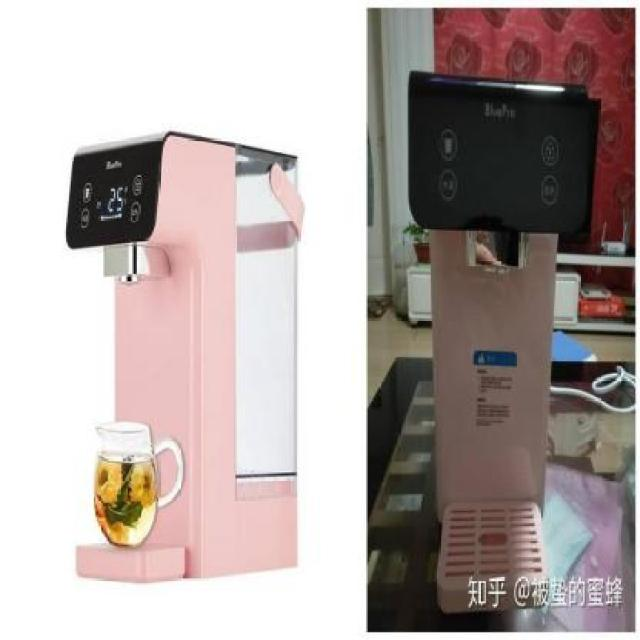cooler: (63, 131, 304, 585), (408, 66, 603, 616)
